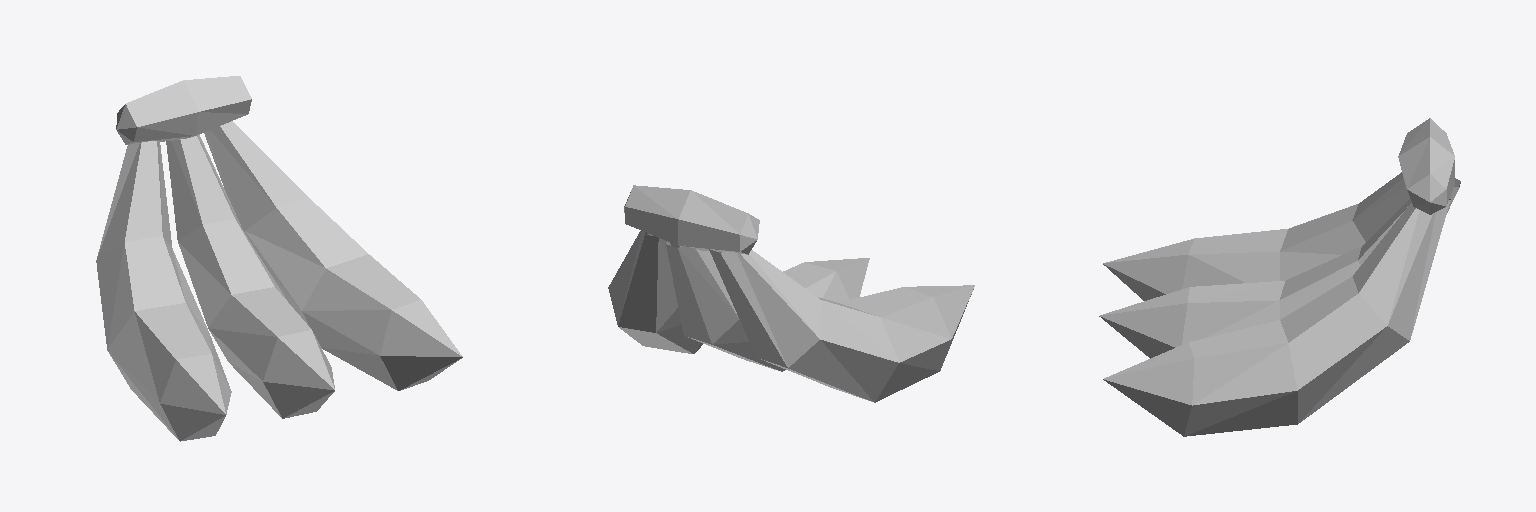
Rendered from Banana.OBJ.
3 views of the same model, side by side, from view 1: azimuth 30°, elevation 25°; view 2: azimuth 150°, elevation 25°; view 3: azimuth 270°, elevation 25° (orthographic).
Size of the model in its own units: 0.1297 by 0.1065 by 0.1456.